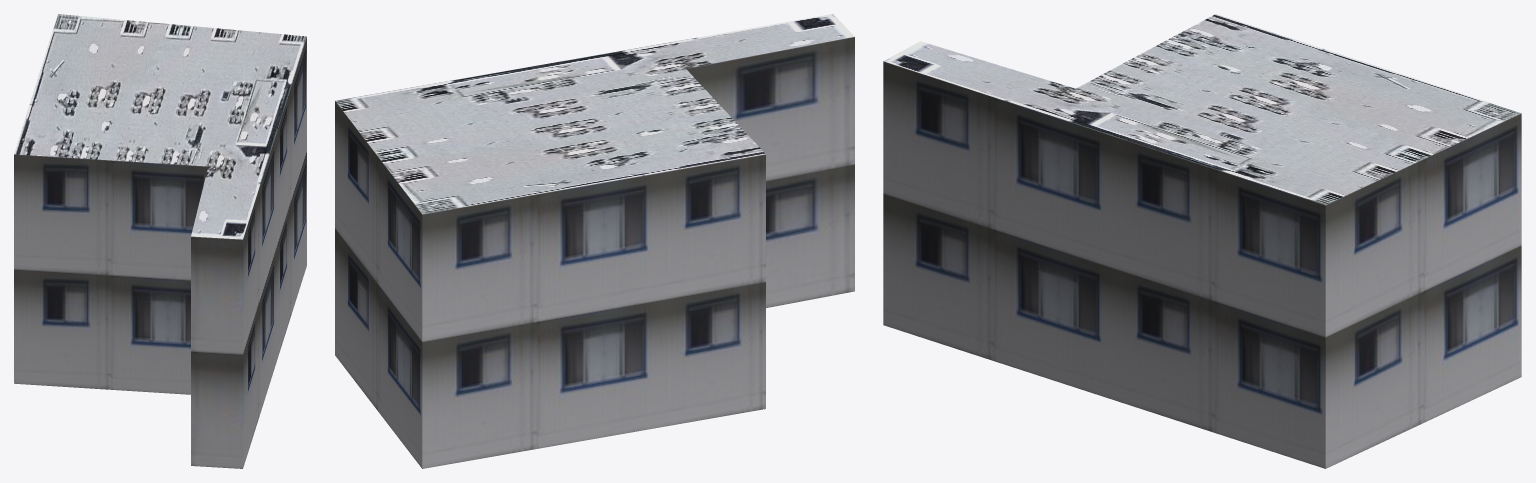
The model's file is ResTex__939.fbx.
3 views of the same model, side by side, from view 1: azimuth 30°, elevation 25°; view 2: azimuth 150°, elevation 25°; view 3: azimuth 270°, elevation 25° (orthographic). The views are drawn at different scales.
Parts seen in each view (by area): view 1: CityEngineMaterial_9_m, CityEngineMaterial_2_m; view 2: CityEngineMaterial_9_m, CityEngineMaterial_2_m; view 3: CityEngineMaterial_9_m, CityEngineMaterial_2_m.
Part boxes in pixels (box(x1,y1,x2,y2)): CityEngineMaterial_9_m: box(14, 37, 306, 468); CityEngineMaterial_2_m: box(14, 14, 306, 239); CityEngineMaterial_9_m: box(335, 37, 854, 468); CityEngineMaterial_2_m: box(335, 14, 854, 214); CityEngineMaterial_9_m: box(883, 61, 1521, 468); CityEngineMaterial_2_m: box(884, 14, 1520, 204).
Bounding box in the file's own units: 9.32 × 6 × 13.15.
2 materials, 2 textured.
